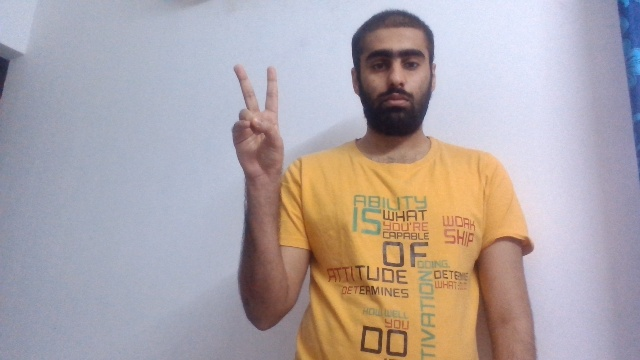scissors: (230, 63, 285, 178)
